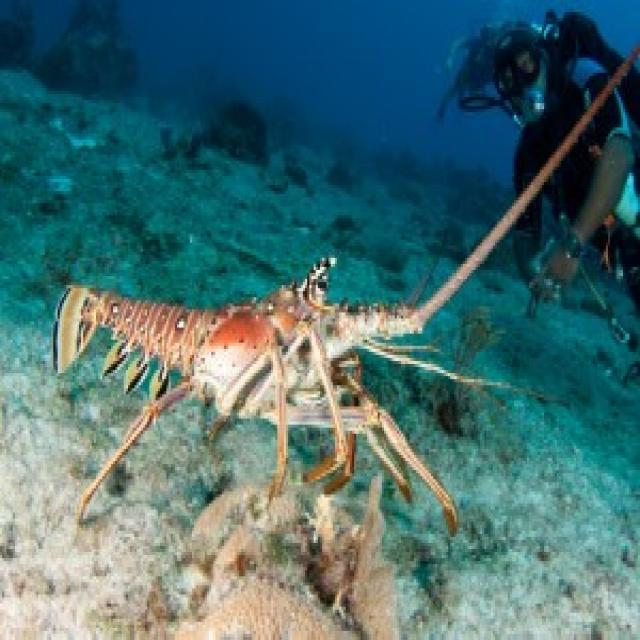lobsters: (20, 44, 640, 587)
